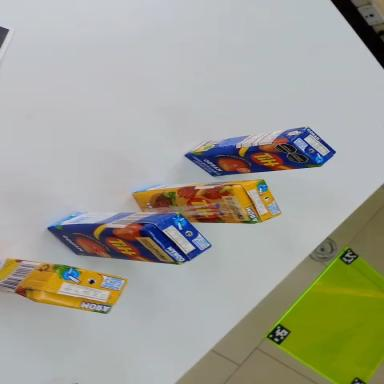HIT-MANGO: (184, 124, 337, 180), (48, 213, 211, 265)
HIT-MORA: (0, 252, 127, 319), (133, 179, 281, 228)
cara_F: (183, 139, 320, 179), (48, 227, 181, 265), (133, 187, 254, 226)
